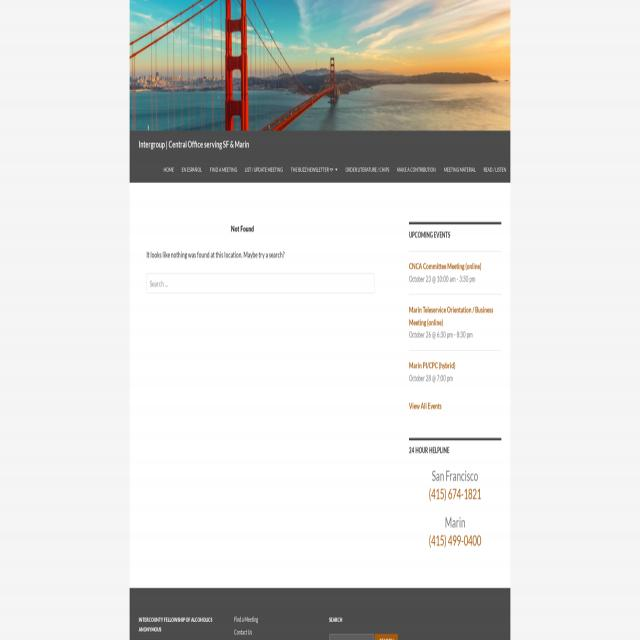button: (139, 130, 249, 156), (342, 156, 393, 182), (288, 158, 341, 182), (394, 156, 440, 182), (242, 156, 287, 182), (440, 156, 480, 182), (206, 156, 241, 182), (480, 156, 510, 182), (178, 156, 206, 182), (160, 156, 178, 182), (375, 634, 398, 640)
field: (146, 274, 375, 294), (329, 634, 374, 640)
